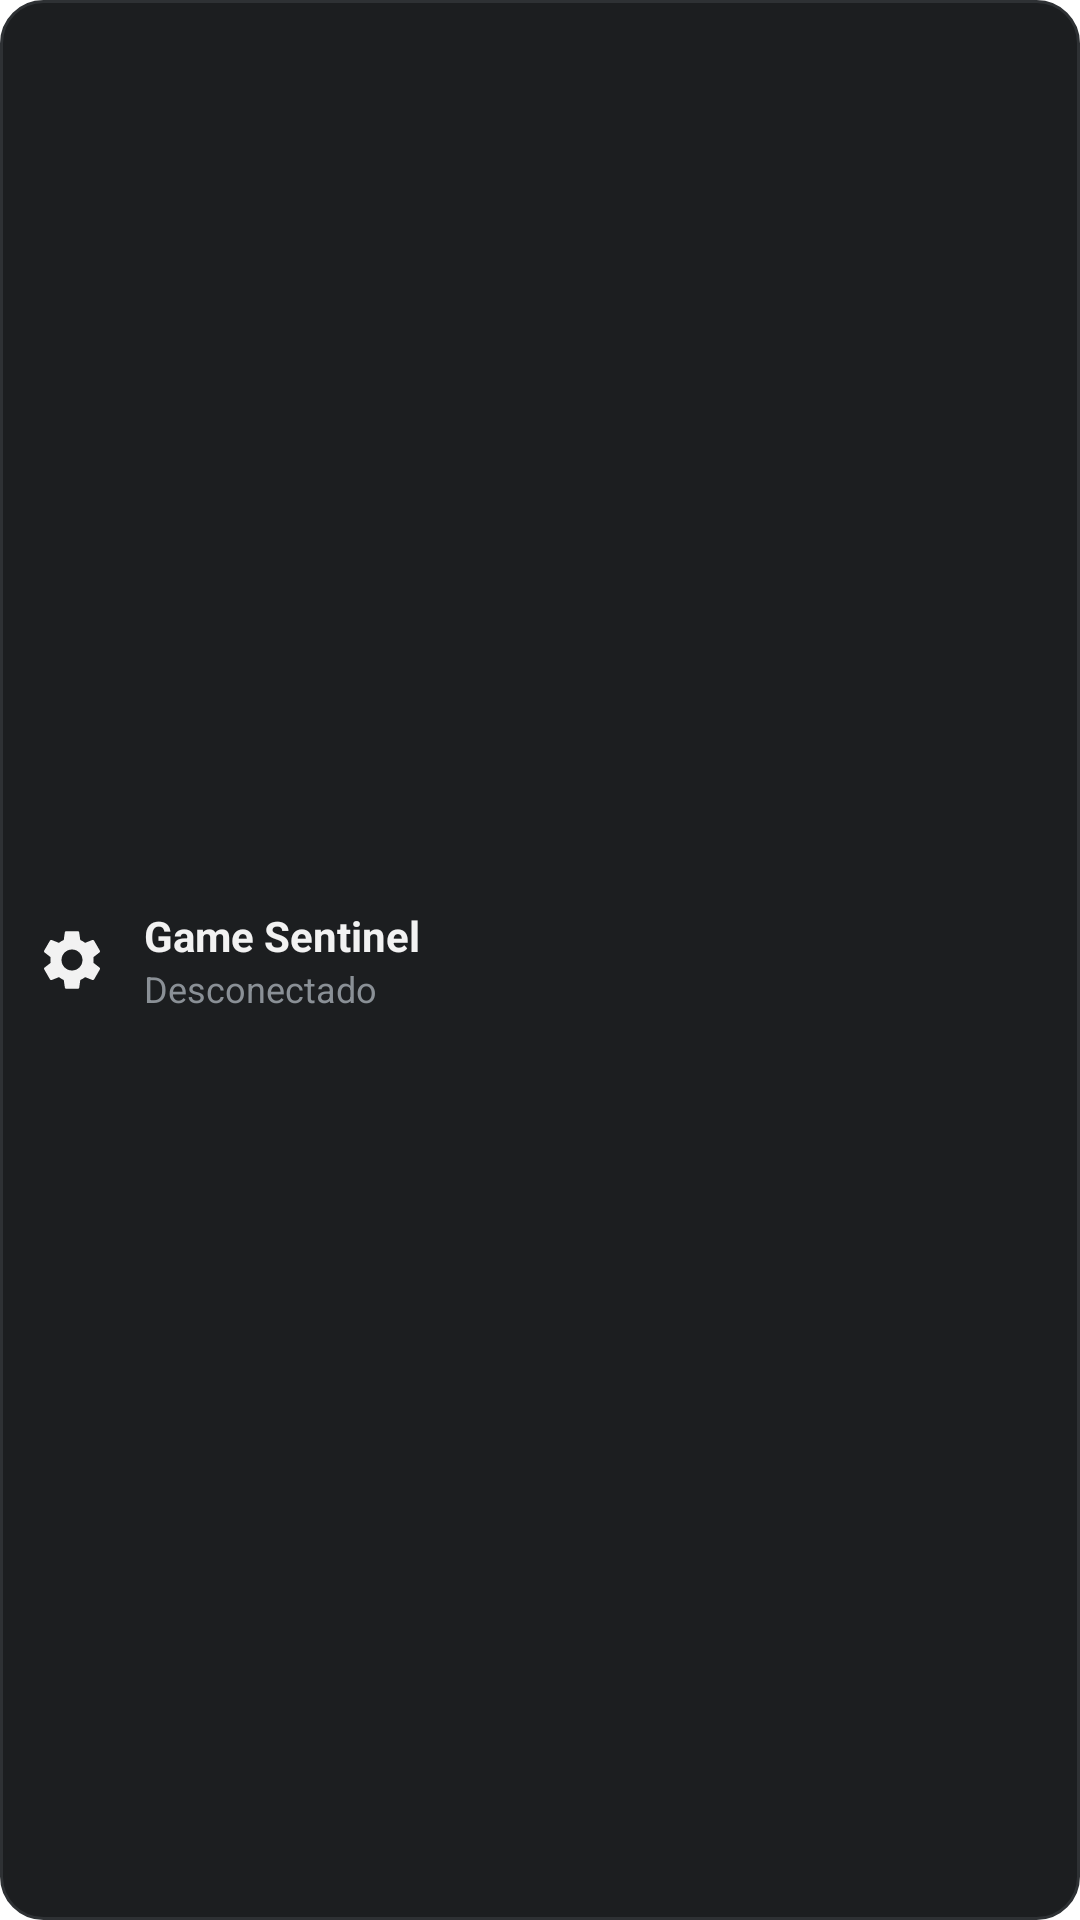

Where to tap for icons on this 1080x1920 app screen, as point (x, y):
settings: point (72, 960)
